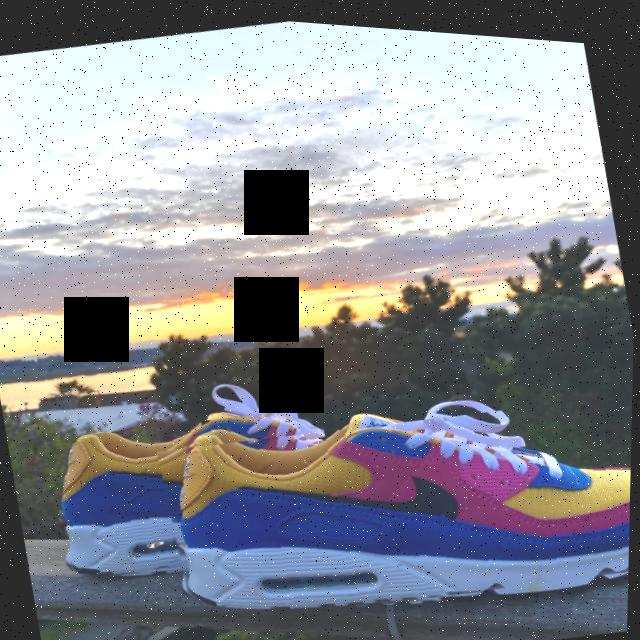shoe: (156, 355, 634, 640), (46, 390, 326, 597)
